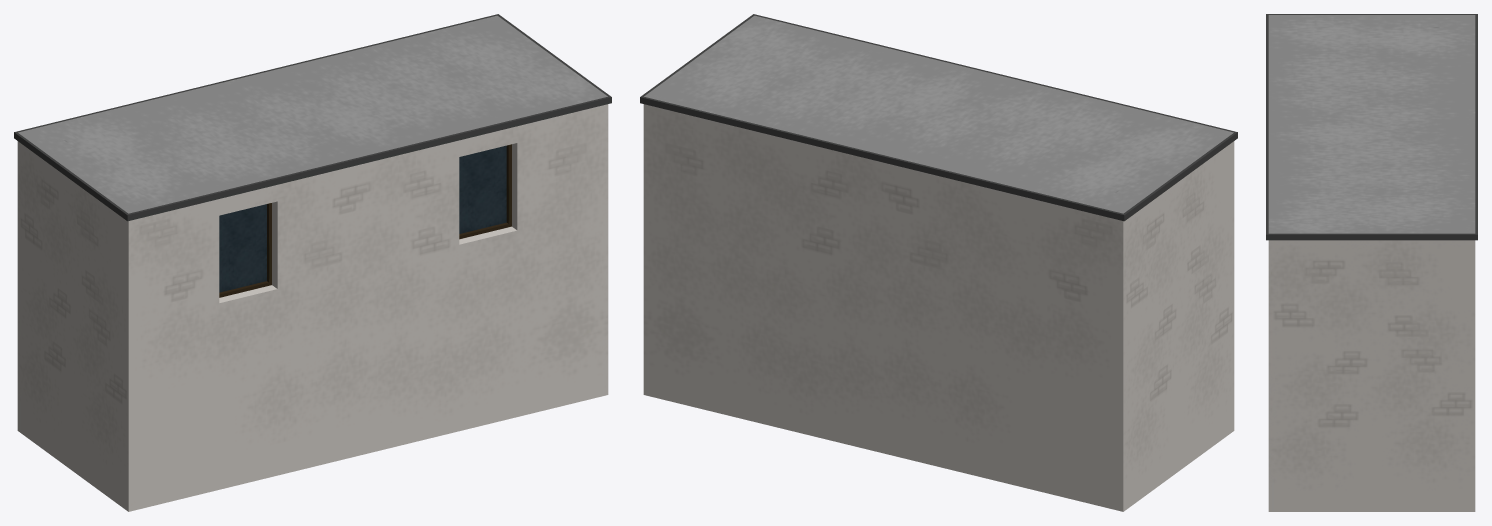
The model's file is build_001.FBX.
3 views of the same model, side by side, from view 1: azimuth 30°, elevation 25°; view 2: azimuth 150°, elevation 25°; view 3: azimuth 270°, elevation 25° (orthographic). The views are drawn at different scales.
Parts seen in each view (by area): view 1: Box001; view 2: Box001; view 3: Box001.
Boxes of the visible parts, <box> form: Box001: <box>14,14,611,511</box>; Box001: <box>640,14,1237,511</box>; Box001: <box>1266,14,1477,511</box>.
Bounding box in the file's own units: 10.1 × 5.94 × 4.1.
Materials: 1 (1 with a texture image).
